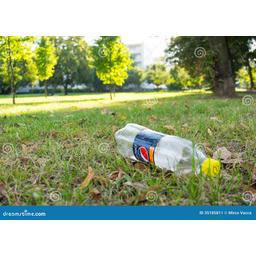plastic: (102, 119, 229, 183)
